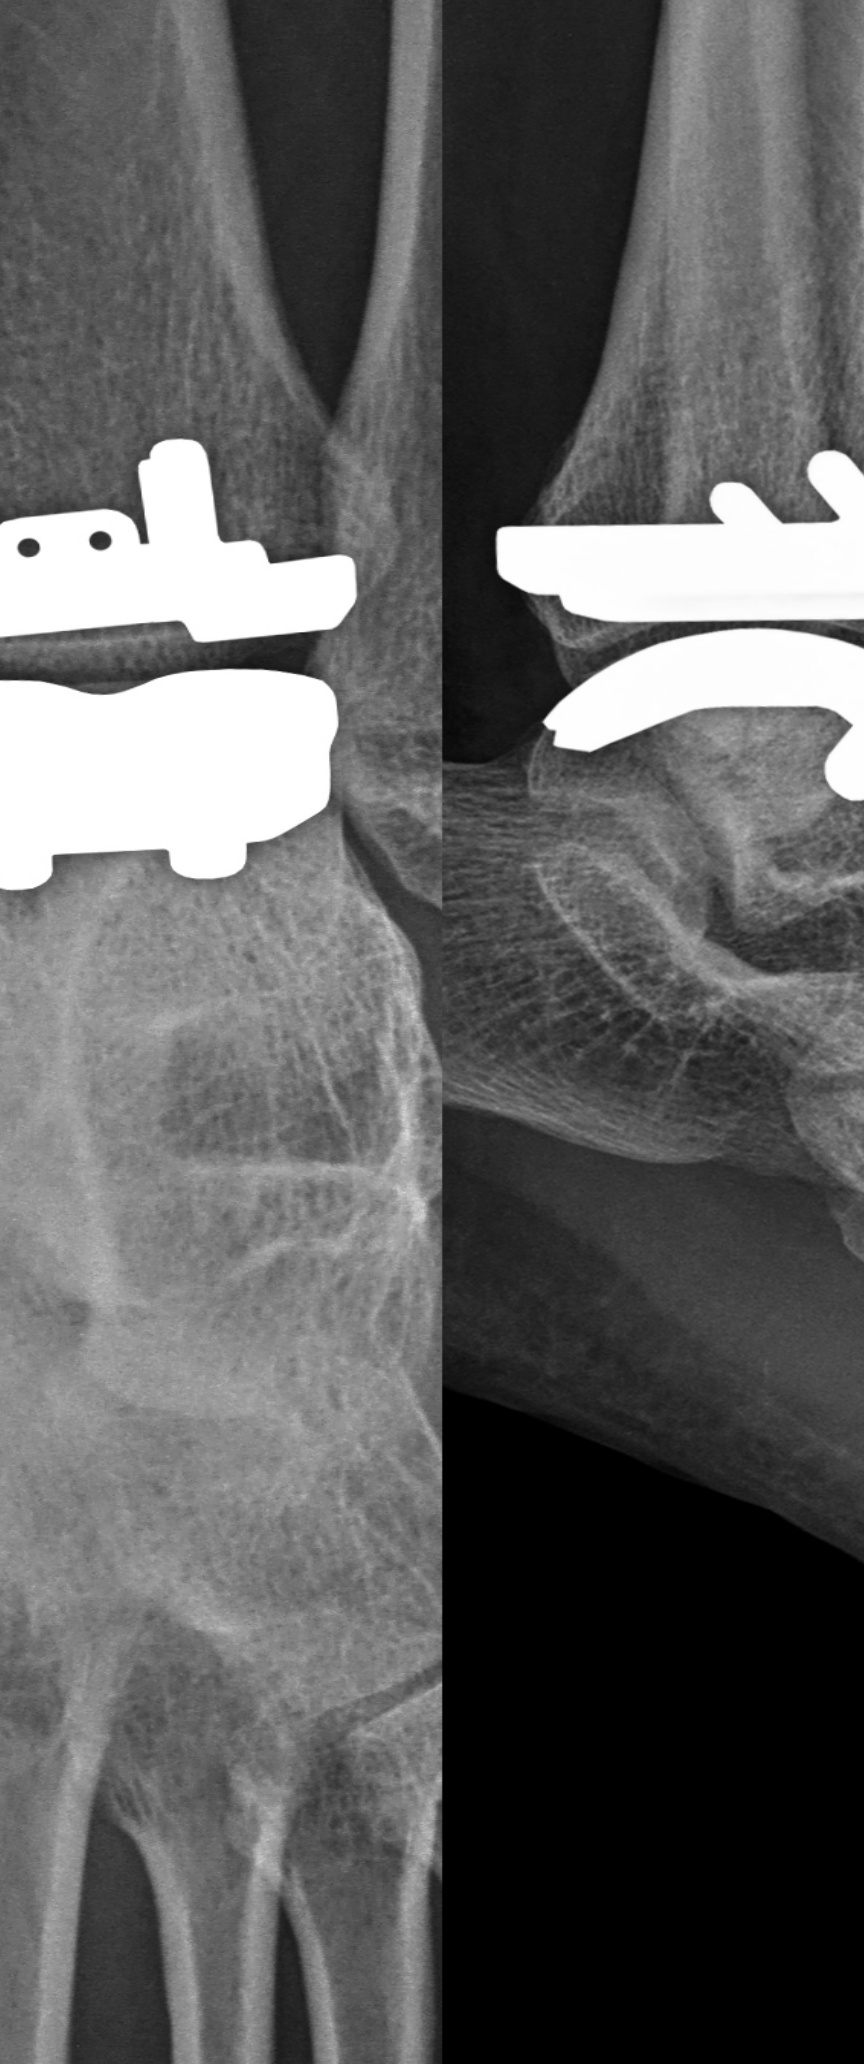Cadence-Integra: (3, 429, 370, 908), (468, 437, 864, 810)
